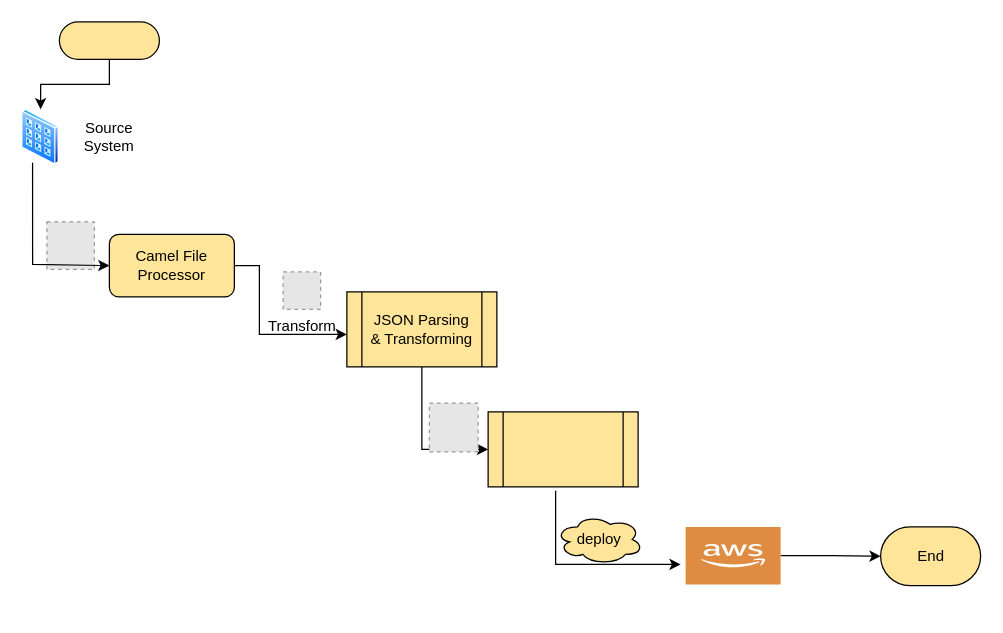
The diagram is 1003 pixels wide and 633 high, and some of its shapes have lost their labels. Grey dashed boxes stand in for pictures. The shapes that lost their labels are listed below. From the top down, each one's centre as x and y in pixels, then its label:
the point at 108,40: Start
the point at 562,449: Trip Calculation
the point at 732,555: Beanstalk
